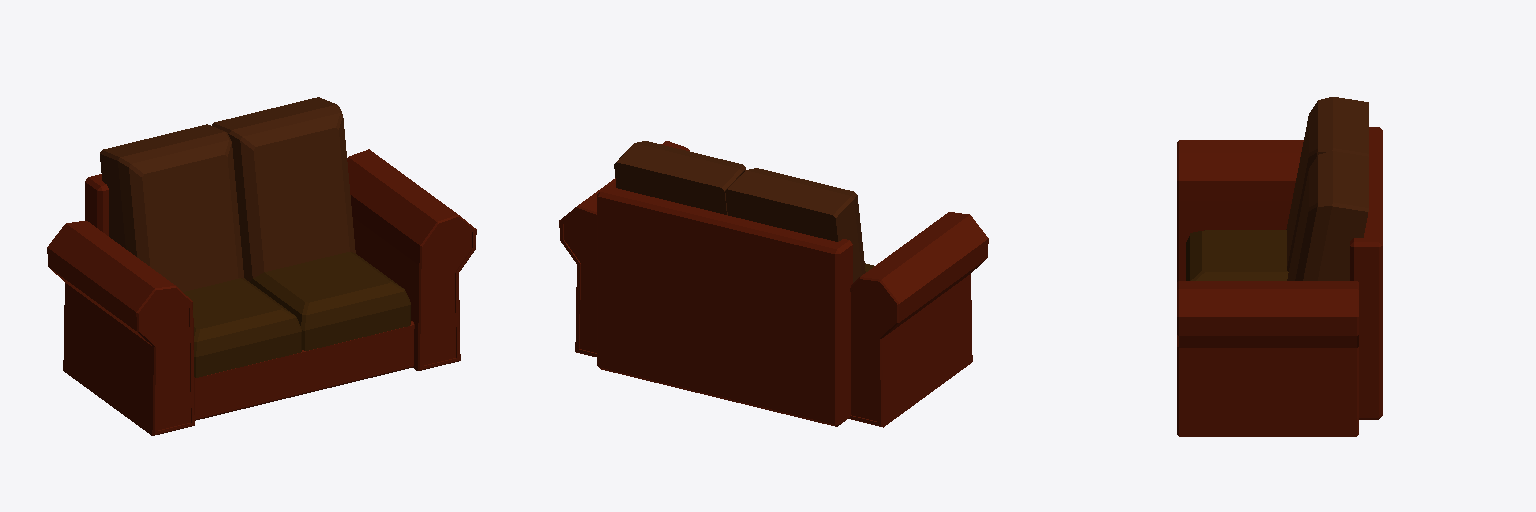
File: TwoSeaterCouch1.obj
3 views of the same model, side by side, from view 1: azimuth 30°, elevation 25°; view 2: azimuth 150°, elevation 25°; view 3: azimuth 270°, elevation 25° (orthographic).
Visible parts, largest first — view 1: TwoSeaterCouch1_Cube.001, Pad2TwoSeaterCouch1_Cube.012, Pad1TwoSeaterCouch1_Cube.011, Pad4TwoSeaterCouch1_Cube.007, Pad3TwoSeaterCouch1_Cube.013; view 2: TwoSeaterCouch1_Cube.001, Pad1TwoSeaterCouch1_Cube.011, Pad2TwoSeaterCouch1_Cube.012; view 3: TwoSeaterCouch1_Cube.001, Pad2TwoSeaterCouch1_Cube.012, Pad3TwoSeaterCouch1_Cube.013, Pad1TwoSeaterCouch1_Cube.011.
Part boxes in pixels (bbox=[...]): TwoSeaterCouch1_Cube.001: bbox=[47, 149, 476, 435]; Pad2TwoSeaterCouch1_Cube.012: bbox=[212, 97, 355, 281]; Pad1TwoSeaterCouch1_Cube.011: bbox=[100, 124, 243, 291]; Pad4TwoSeaterCouch1_Cube.007: bbox=[250, 252, 410, 350]; Pad3TwoSeaterCouch1_Cube.013: bbox=[183, 278, 301, 377]; TwoSeaterCouch1_Cube.001: bbox=[559, 141, 988, 427]; Pad1TwoSeaterCouch1_Cube.011: bbox=[725, 168, 865, 282]; Pad2TwoSeaterCouch1_Cube.012: bbox=[614, 141, 745, 214]; TwoSeaterCouch1_Cube.001: bbox=[1177, 127, 1382, 436]; Pad2TwoSeaterCouch1_Cube.012: bbox=[1287, 151, 1368, 280]; Pad3TwoSeaterCouch1_Cube.013: bbox=[1186, 230, 1288, 280]; Pad1TwoSeaterCouch1_Cube.011: bbox=[1286, 97, 1368, 271].
Bounding box in the file's own units: 1.97 × 1.18 × 1.03.